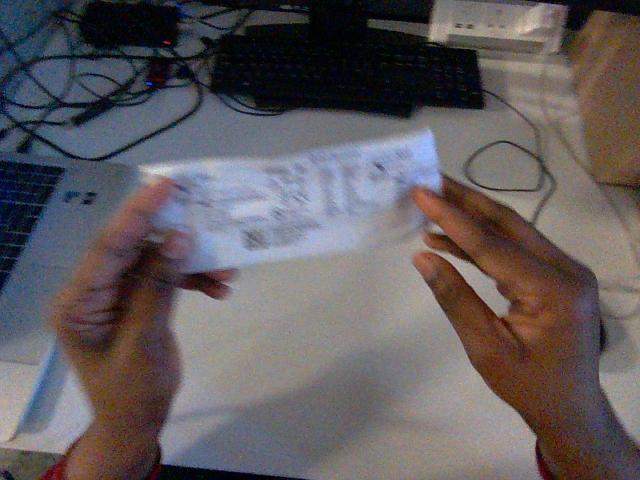syringe: (142, 129, 440, 271)
